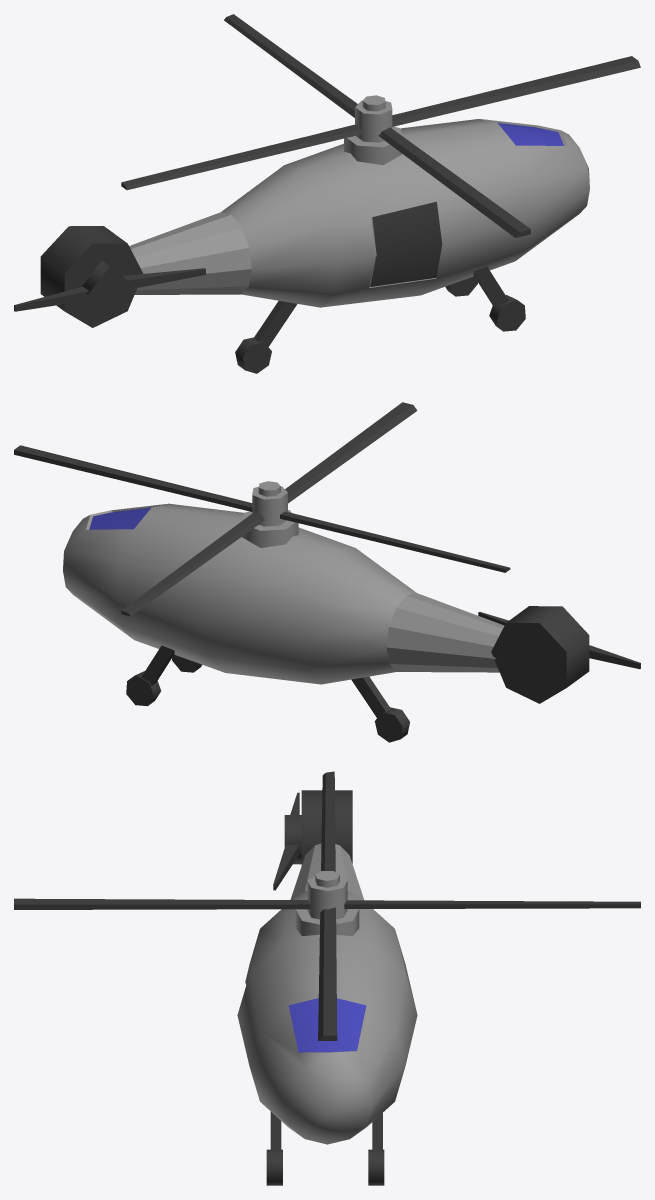
The model's file is Apache.FBX.
3 views of the same model, one above another, from view 1: azimuth 30°, elevation 25°; view 2: azimuth 150°, elevation 25°; view 3: azimuth 270°, elevation 25° (orthographic). The views are drawn at different scales.
Parts seen in each view (by area): view 1: Sphere001, Box003, Cylinder001, Box004, Cylinder006, Cylinder008, Cylinder002, Cylinder003, Cylinder004, Box002, Box001; view 2: Sphere001, Cylinder001, Box003, Box004, Cylinder006, Cylinder007, Cylinder003, Cylinder004, Box001; view 3: Sphere001, Box004, Box003, Cylinder001, Cylinder004, Cylinder003, Cylinder008, Cylinder007, Cylinder002.
Boxes of the visible parts, box(x1,y1,x2,y2) form: Sphere001: box(129, 119, 589, 307); Box003: box(121, 56, 640, 190); Cylinder001: box(40, 226, 143, 327); Box004: box(224, 14, 530, 237); Cylinder006: box(235, 301, 297, 373); Cylinder008: box(473, 266, 525, 331); Cylinder002: box(81, 260, 131, 312); Cylinder003: box(344, 126, 402, 165); Cylinder004: box(355, 100, 392, 142); Box002: box(122, 268, 205, 289); Box001: box(14, 286, 92, 311); Sphere001: box(63, 503, 504, 684); Cylinder001: box(491, 606, 589, 703); Box003: box(14, 445, 510, 572); Box004: box(121, 402, 417, 616); Cylinder006: box(351, 676, 409, 742); Cylinder007: box(126, 645, 174, 706); Cylinder003: box(242, 510, 298, 547); Cylinder004: box(252, 486, 287, 526); Box001: box(589, 645, 640, 669); Sphere001: box(237, 843, 417, 1144); Box004: box(14, 898, 640, 909); Box003: box(318, 771, 337, 1040); Cylinder001: box(301, 790, 352, 865); Cylinder004: box(307, 876, 347, 919); Cylinder003: box(295, 909, 359, 935); Cylinder008: box(266, 1112, 282, 1185); Cylinder007: box(368, 1113, 384, 1185); Cylinder002: box(284, 815, 301, 864).
Bounding box in the file's own units: 330 × 118 × 266.
